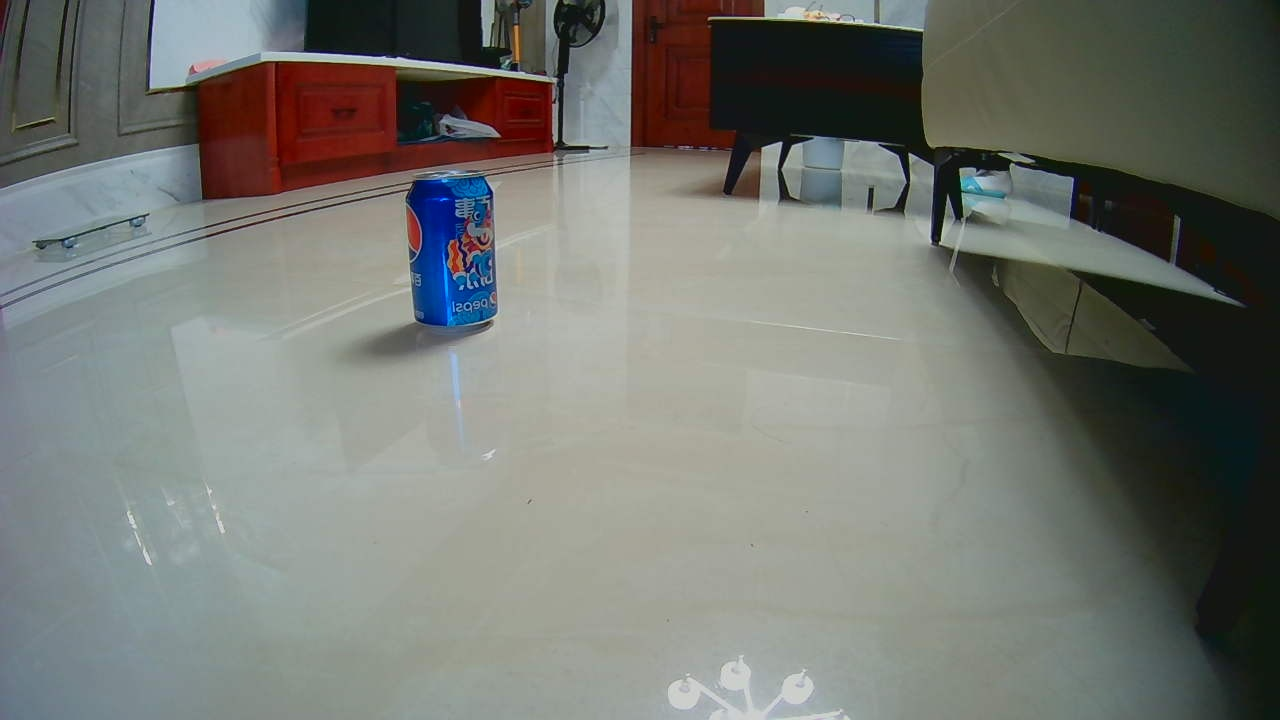pessi: (400, 174, 498, 325)
